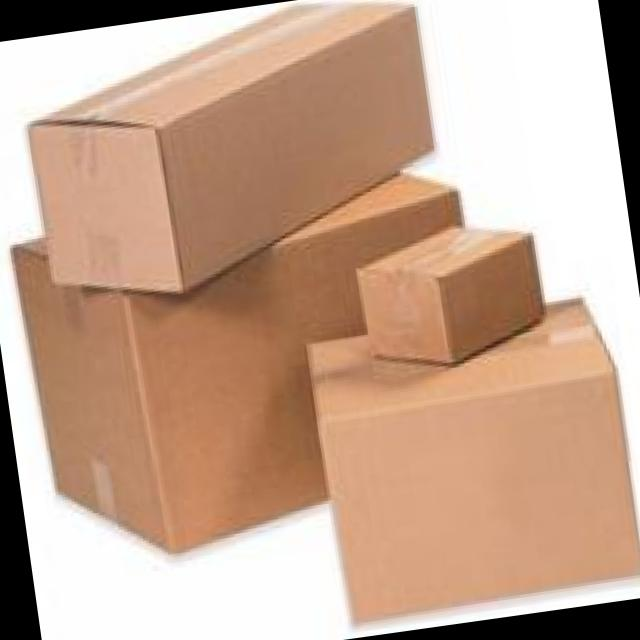box: (8, 172, 468, 557), (23, 3, 440, 297), (305, 295, 640, 626), (355, 225, 547, 368)
